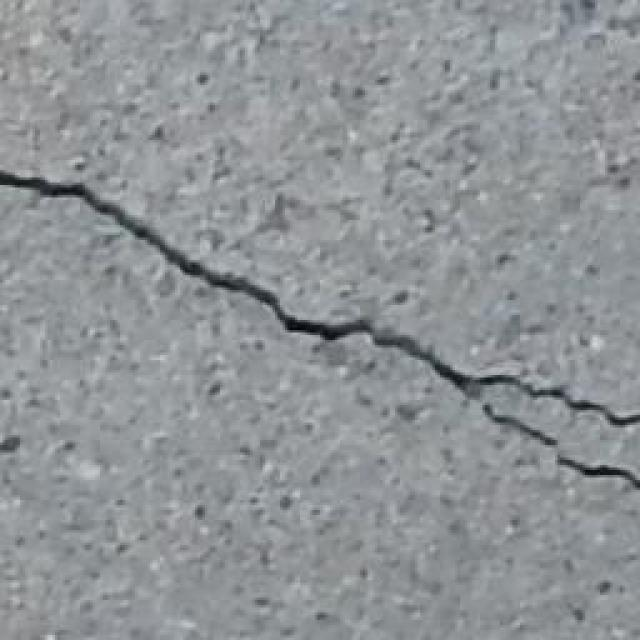concrete-crack: (0, 160, 640, 502)
